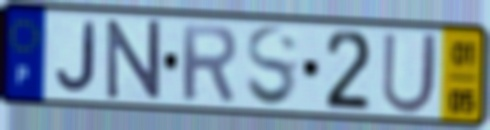2: (322, 27, 374, 115)
J: (54, 20, 98, 95)
N: (104, 18, 163, 103)
R: (178, 21, 240, 104)
S: (244, 23, 300, 111)
U: (379, 29, 442, 117)
